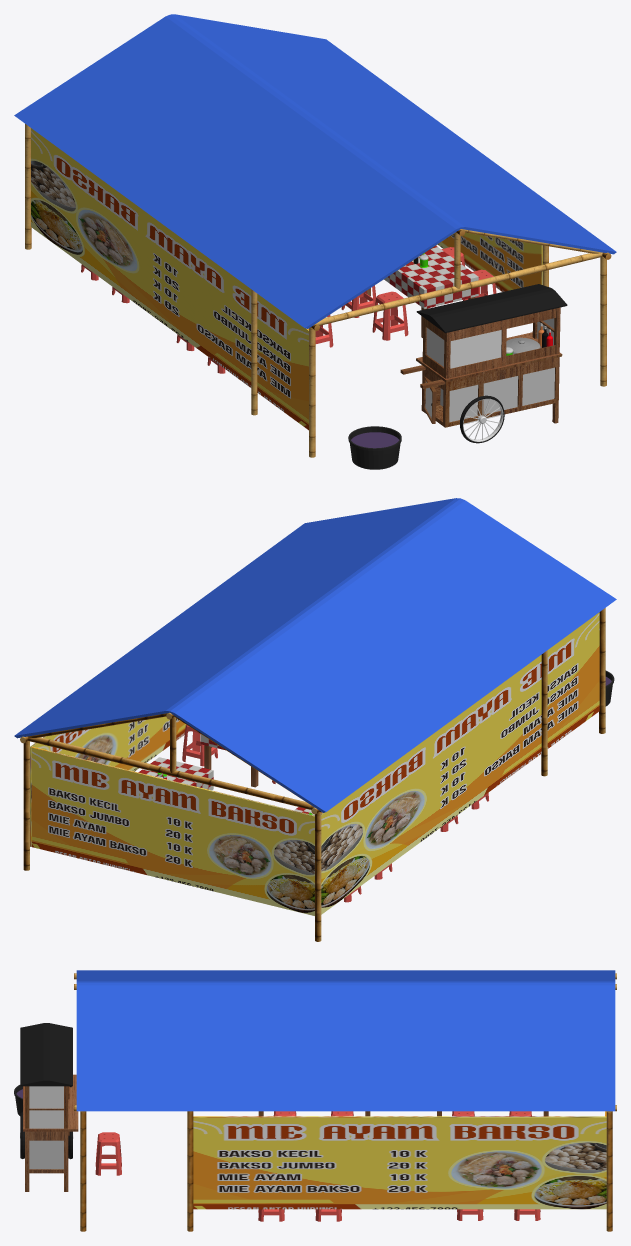
File: baksopecel_lelemie_ayam.glb
The picture shows the model from 3 angles, top to bottom: view 1: azimuth 30°, elevation 25°; view 2: azimuth 150°, elevation 25°; view 3: azimuth 270°, elevation 25°; orthographic projection. The views are drawn at different scales.
Parts seen in each view (by area): view 1: Cube.001, Cube.005, Cube.034, Cube.003, Cube, Cylinder.004, Cylinder.021, Cube.011, Cube.043, Cylinder, Cylinder.001, Cylinder.010 (+1 smaller); view 2: Cube.001, Cube.002, Cube.005, Cube.003, Cylinder.005, Cylinder.002, Cylinder.003, Cube.007, Cylinder.010, Cylinder.001, Cube.014; view 3: Cube.001, Cube.003, Cube.034, Cylinder.009, Cube.035, Cylinder, Cylinder.002.
Boxes of the visible parts, x1,y1,x2,y2 form: Cube.001: (14, 14, 616, 328); Cube.005: (31, 128, 308, 430); Cube.034: (416, 284, 567, 427); Cube.003: (438, 232, 542, 291); Cube: (367, 246, 478, 337); Cylinder.004: (309, 252, 602, 328); Cylinder.021: (348, 426, 401, 469); Cube.011: (372, 291, 408, 340); Cube.043: (459, 395, 504, 443); Cylinder: (600, 256, 606, 386); Cylinder.001: (309, 328, 315, 457); Cylinder.010: (251, 289, 257, 415); Cube.001: (14, 498, 616, 812); Cube.002: (31, 746, 314, 915); Cube.005: (321, 612, 599, 914); Cube.003: (30, 716, 188, 846); Cylinder.005: (28, 737, 321, 812); Cylinder.002: (23, 741, 29, 870); Cylinder.003: (315, 812, 321, 941); Cube.007: (138, 757, 213, 790); Cylinder.010: (541, 650, 547, 776); Cylinder.001: (599, 608, 605, 733); Cube.014: (182, 724, 217, 766); Cube.001: (76, 970, 615, 1111); Cube.003: (193, 1116, 606, 1209); Cube.034: (20, 1023, 78, 1191); Cylinder.009: (187, 1111, 193, 1231); Cube.035: (95, 1132, 121, 1175); Cylinder: (80, 1111, 86, 1231); Cylinder.002: (606, 1111, 612, 1231).
Size of the model in its own units: 7.19 by 4.31 by 12.97.
20 materials, 5 textured.
